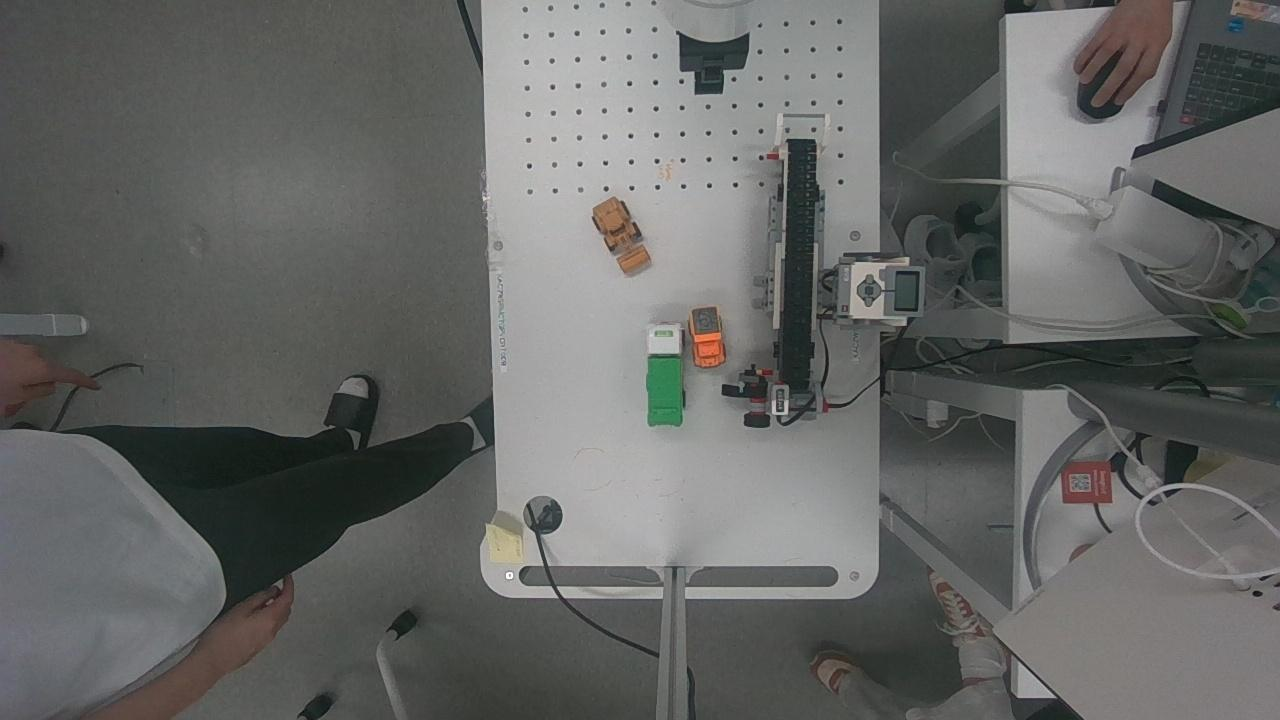green_car: (640, 311, 686, 428)
orange_car: (687, 298, 729, 371)
yellow_car: (583, 190, 656, 276)
